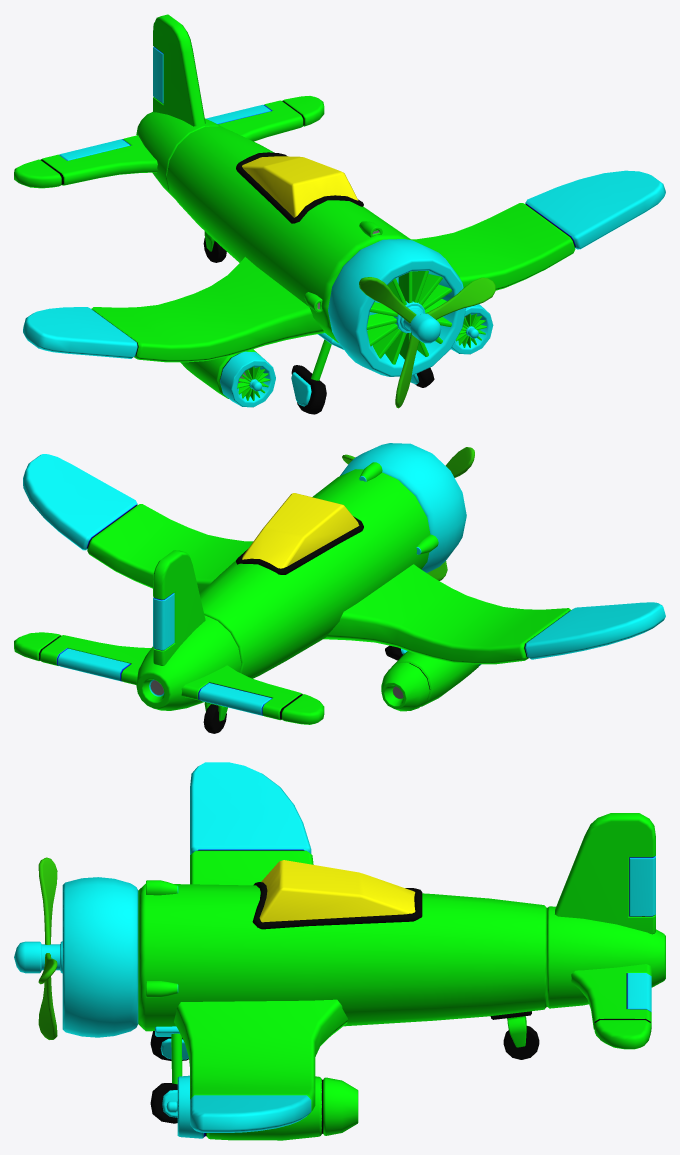
3 views of the same model, one above another, from view 1: azimuth 30°, elevation 25°; view 2: azimuth 150°, elevation 25°; view 3: azimuth 270°, elevation 25° (orthographic). The views are drawn at different scales.
Parts seen in each view (by area): view 1: Body2, Wing2_R, Fin2, Wing2_L, Propeller2_A, Spurt2_R, Propeller2_B, Body2_B, Spurt2_L; view 2: Body2, Fin2, Wing2_R, Wing2_L, Propeller2_A, Spurt2_R, Propeller2_B, Body2_A; view 3: Body2, Fin2, Wing2_L, Propeller2_A, Wing2_R, Spurt2_L, Propeller2_B, Body2_C, Body2_A, Body2_B.
Part boxes in pixels (x1,y1,x2,y2): Body2: (166, 126, 411, 342); Wing2_R: (23, 257, 324, 362); Fin2: (14, 14, 324, 198); Wing2_L: (411, 170, 665, 290); Propeller2_A: (328, 239, 465, 376); Spurt2_R: (180, 349, 275, 407); Propeller2_B: (359, 277, 495, 408); Body2_B: (291, 333, 343, 414); Spurt2_L: (451, 304, 493, 354); Body2: (199, 462, 438, 678); Fin2: (14, 550, 324, 724); Wing2_R: (323, 564, 665, 664); Wing2_L: (23, 454, 253, 593); Propeller2_A: (340, 443, 466, 572); Spurt2_R: (381, 651, 481, 711); Propeller2_B: (342, 447, 474, 580); Body2_A: (203, 702, 227, 733); Body2: (138, 860, 546, 1031); Fin2: (547, 813, 665, 1049); Wing2_L: (174, 999, 347, 1132); Propeller2_A: (14, 877, 138, 1037); Wing2_R: (190, 762, 313, 885); Spurt2_L: (166, 1075, 358, 1140); Propeller2_B: (38, 857, 57, 1039); Body2_C: (150, 1026, 182, 1123); Body2_A: (490, 1011, 539, 1059); Body2_B: (150, 1031, 188, 1060).
Bounding box in the file's own units: 20.22 × 7.3 × 15.6.
